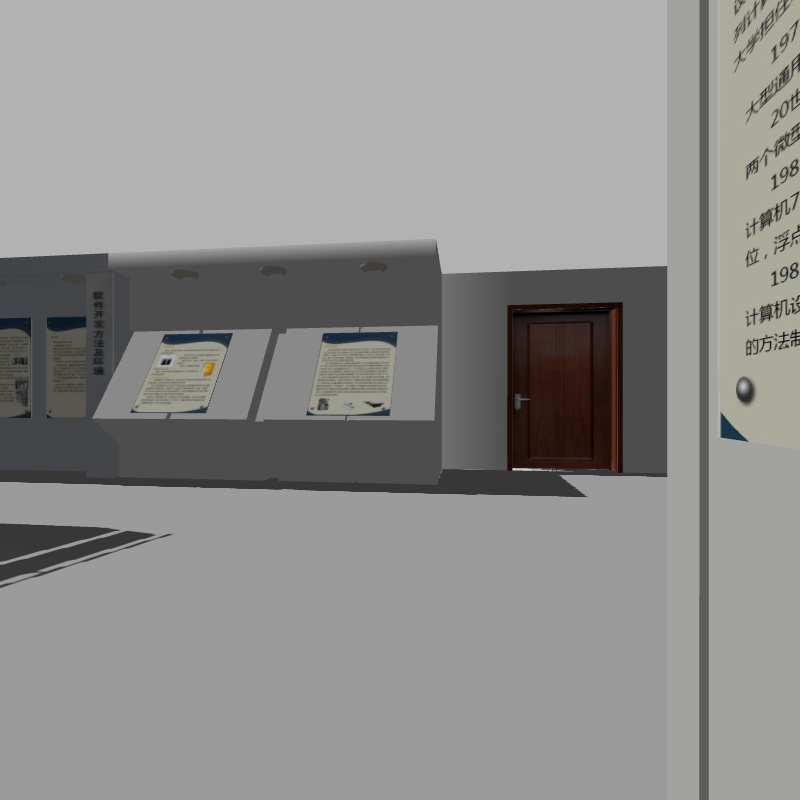handle: (508, 385, 534, 414)
